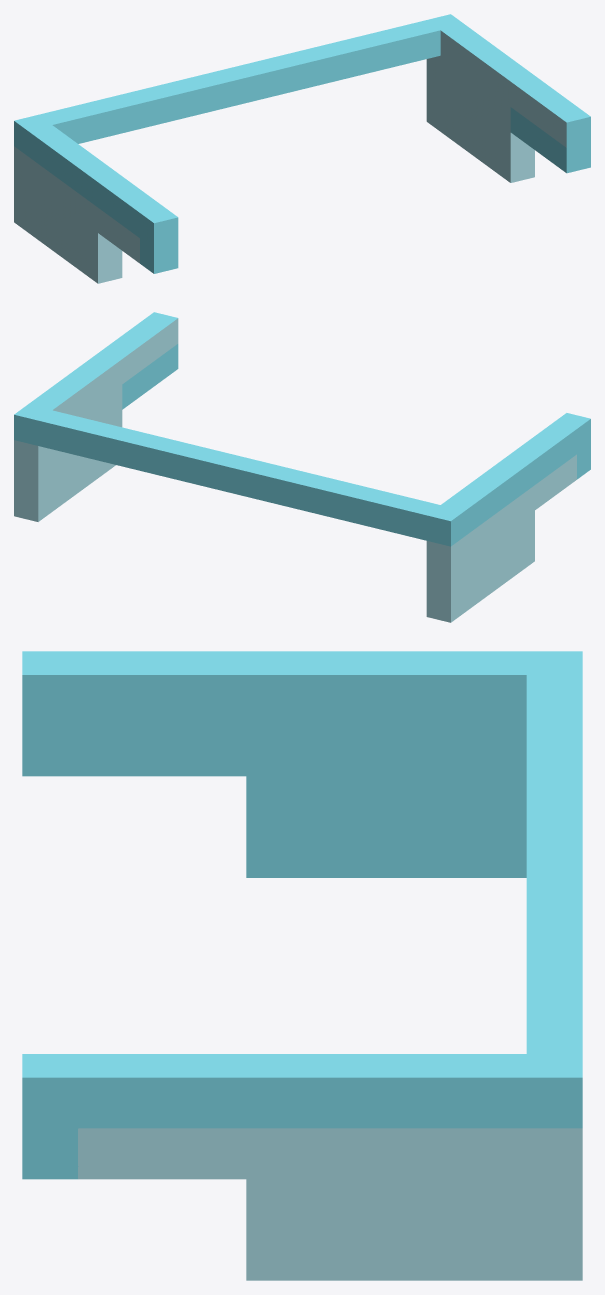
The model's file is safetyglasses.dae.
3 views of the same model, one above another, from view 1: azimuth 30°, elevation 25°; view 2: azimuth 150°, elevation 25°; view 3: azimuth 270°, elevation 25° (orthographic). The views are drawn at different scales.
Parts seen in each view (by area): view 1: cuboid; view 2: cuboid; view 3: cuboid.
Part boxes in pixels (x1,y1,x2,y2): cuboid: [14, 14, 590, 283]; cuboid: [14, 312, 590, 622]; cuboid: [22, 651, 582, 1280].
Size of the model in its own units: 1.12 by 0.25 by 0.625.
1 material, 1 textured.
